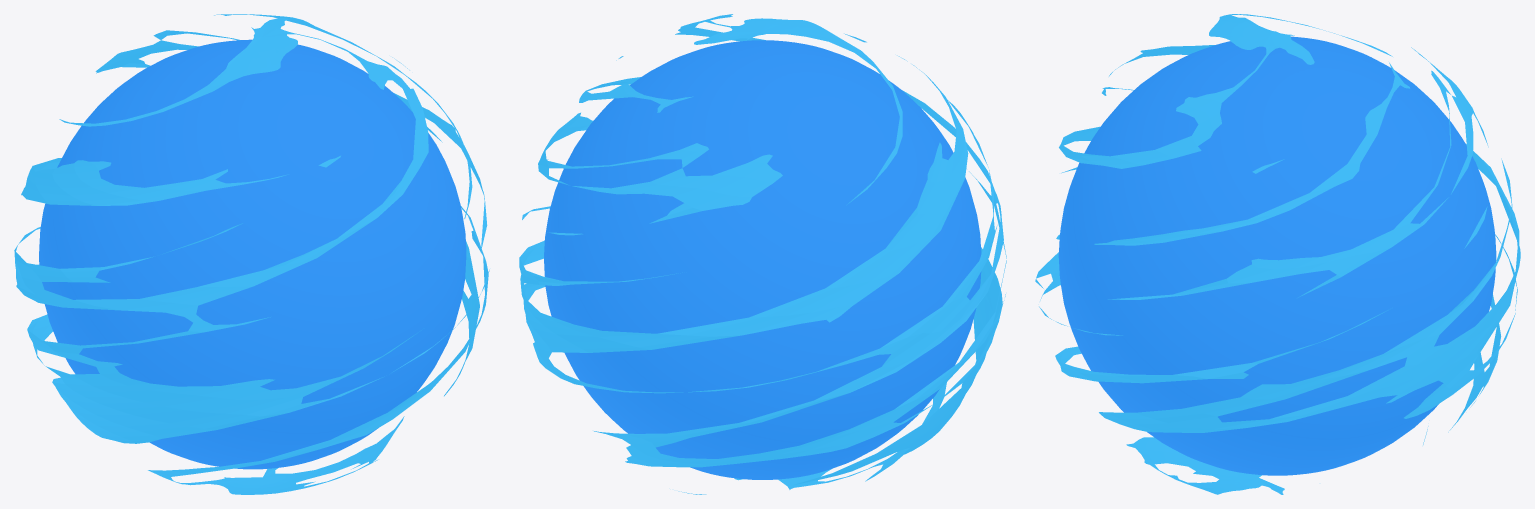
The model's file is Rasengan-Naruto.glb.
3 renders of one model, left to right at view 1: azimuth 30°, elevation 25°; view 2: azimuth 150°, elevation 25°; view 3: azimuth 270°, elevation 25°, orthographic. The views are drawn at different scales.
Parts seen in each view (by area): view 1: Sphere, Object_4; view 2: Sphere, Object_4; view 3: Sphere, Object_4.
Part boxes in pixels (left/top/right/bottom): Sphere: left=39, top=39, right=466, bottom=469; Object_4: left=14, top=14, right=489, bottom=494; Sphere: left=544, top=40, right=981, bottom=479; Object_4: left=519, top=14, right=1006, bottom=494; Sphere: left=1058, top=36, right=1496, bottom=475; Object_4: left=1035, top=14, right=1520, bottom=494.
Bounding box in the file's own units: 20.02 × 20.25 × 19.95.
